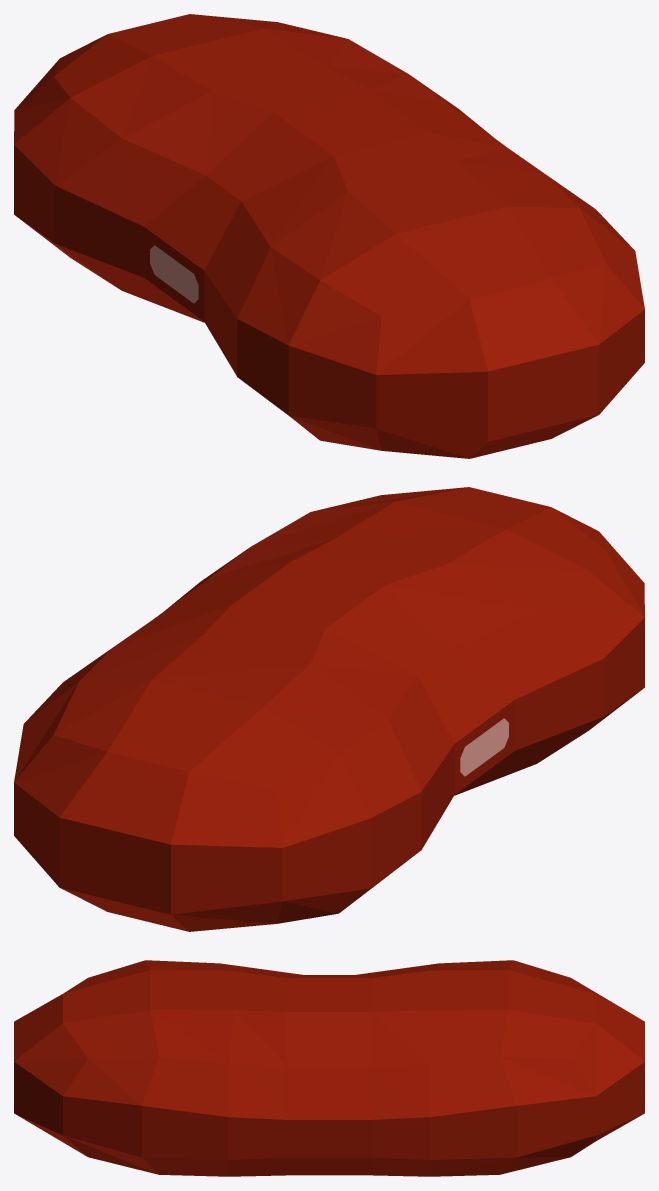
File: bean.glb
The picture shows the model from 3 angles, top to bottom: view 1: azimuth 30°, elevation 25°; view 2: azimuth 150°, elevation 25°; view 3: azimuth 270°, elevation 25°; orthographic projection. The views are drawn at different scales.
Parts seen in each view (by area): view 1: Kidney_Bean; view 2: Kidney_Bean; view 3: Kidney_Bean.
Part boxes in pixels (x1=…): Kidney_Bean: x1=14, y1=14, x2=644, y2=458; Kidney_Bean: x1=14, y1=487, x2=644, y2=931; Kidney_Bean: x1=14, y1=960, x2=644, y2=1176.
Bounding box in the file's own units: 144 × 78.26 × 279.
Materials: 1 (1 with a texture image).
